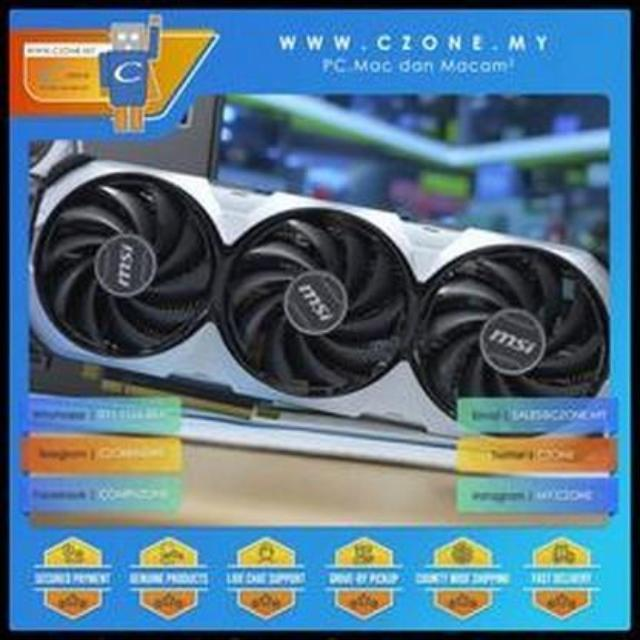GPU: (20, 145, 626, 470)
